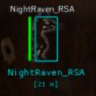hacks_1: (7, 4, 86, 89)
